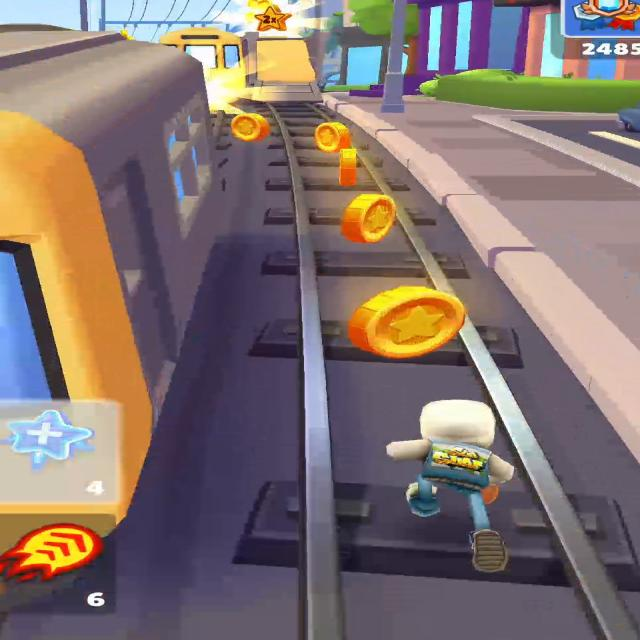climber: (250, 38, 321, 102)
train: (0, 28, 221, 522), (160, 27, 243, 86)
